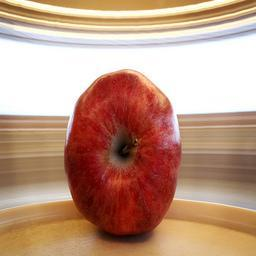apple: (64, 69, 181, 238)
